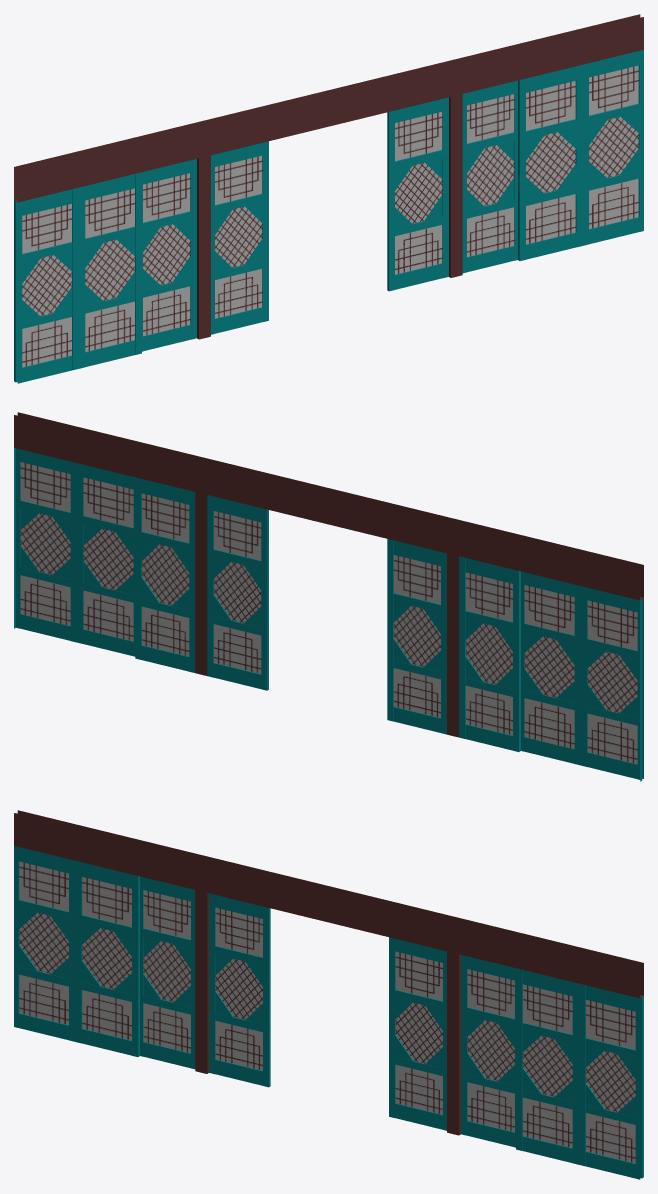
The model's file is living_room_2nddoor_002.fbx.
The picture shows the model from 3 angles, top to bottom: view 1: azimuth 30°, elevation 25°; view 2: azimuth 150°, elevation 25°; view 3: azimuth 330°, elevation 25°; orthographic projection.
Visible parts, largest first — view 1: living_room_2nddoor_002; view 2: living_room_2nddoor_002; view 3: living_room_2nddoor_002.
Boxes of the visible parts, x1,y1,x2,y2 form: living_room_2nddoor_002: (14,14,643,383); living_room_2nddoor_002: (14,412,643,781); living_room_2nddoor_002: (14,810,643,1179).
Bounding box in the file's own units: 994 × 325 × 10.
